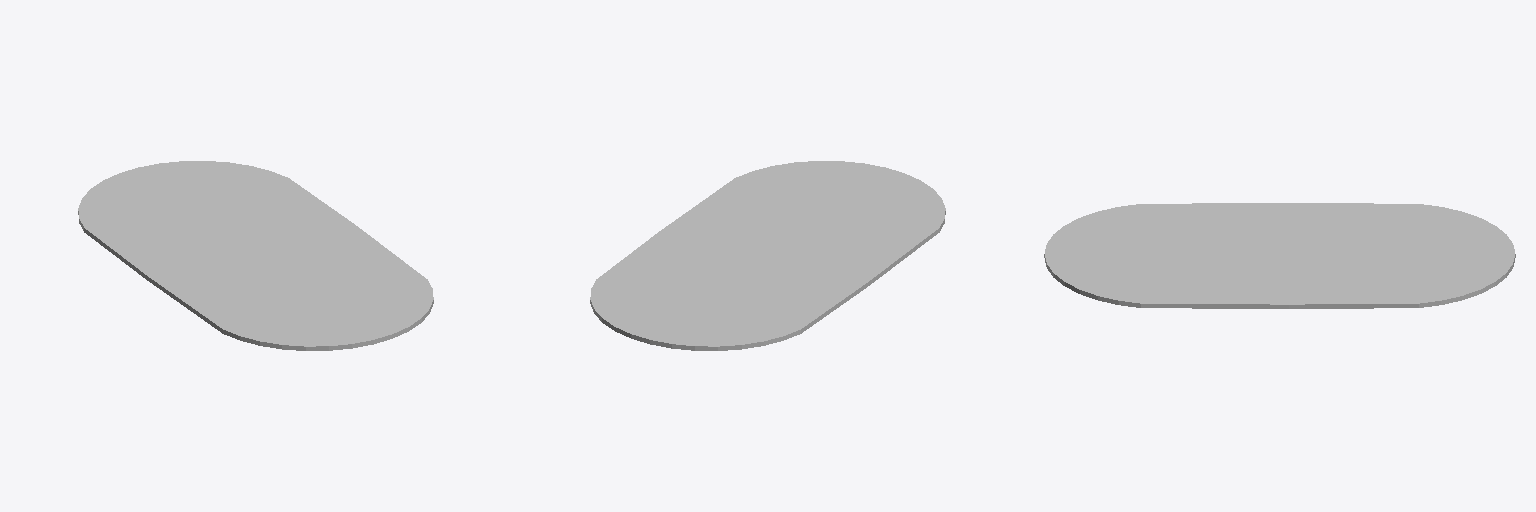
File: Track.obj
3 renders of one model, left to right at view 1: azimuth 30°, elevation 25°; view 2: azimuth 150°, elevation 25°; view 3: azimuth 270°, elevation 25°, orthographic.
Visible parts, largest first — view 1: Cylinder_Cylinder.002; view 2: Cylinder_Cylinder.002; view 3: Cylinder_Cylinder.002.
Boxes of the visible parts, x1,y1,x2,y2 form: Cylinder_Cylinder.002: [78, 161, 433, 350]; Cylinder_Cylinder.002: [590, 161, 945, 350]; Cylinder_Cylinder.002: [1044, 203, 1515, 308].
Bounding box in the file's own units: 0.9377 × 0.0194 × 1.83.